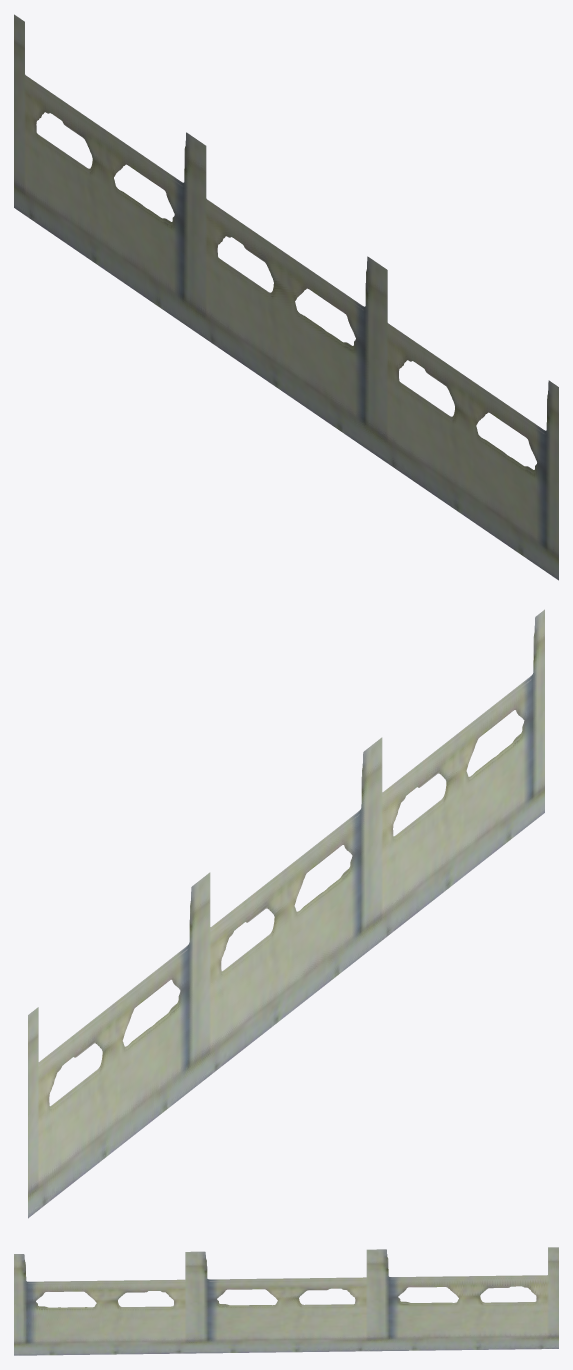
Rendered from 人民英雄纪念碑41.dae.
The picture shows the model from 3 angles, top to bottom: view 1: azimuth 30°, elevation 25°; view 2: azimuth 150°, elevation 25°; view 3: azimuth 270°, elevation 25°; orthographic projection. The views are drawn at different scales.
Visible parts, largest first — view 1: SketchUp; view 2: SketchUp; view 3: SketchUp.
Boxes of the visible parts, bbox=[...] form: SketchUp: bbox=[14, 14, 558, 580]; SketchUp: bbox=[28, 609, 544, 1218]; SketchUp: bbox=[14, 1247, 558, 1355].
Bounding box in the file's own units: 7.94 × 268 × 55.12.
